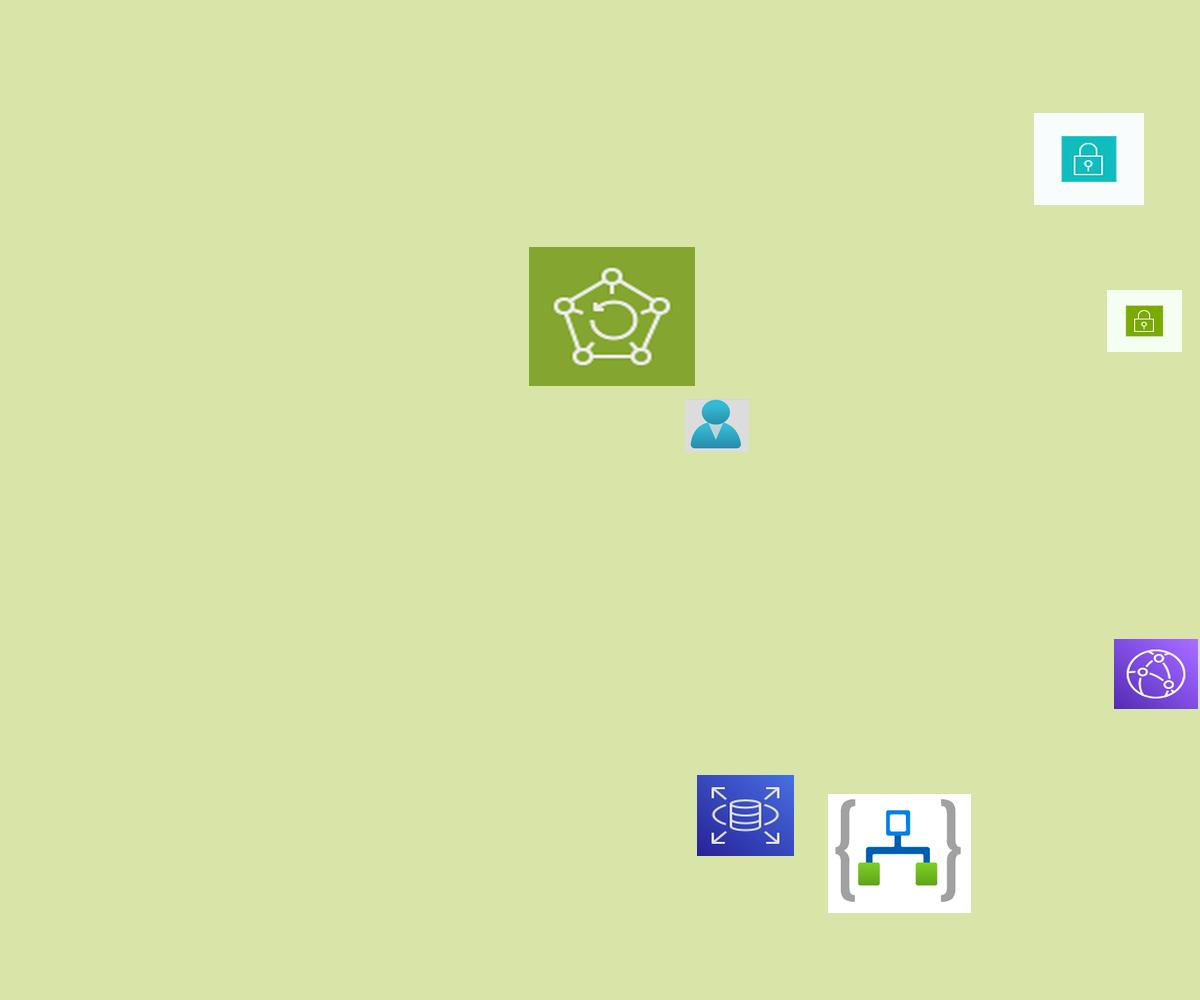AWS-Backup: (529, 247, 695, 386)
AWS-CloudFront: (1114, 639, 1198, 709)
AWS-Private-subnet: (1034, 113, 1144, 205)
AWS-Public-subnet: (1107, 290, 1182, 352)
AWS-RDS: (697, 775, 794, 856)
Azure_integration-204-Logic-Apps: (828, 794, 971, 913)
Azure_users: (685, 399, 749, 452)
